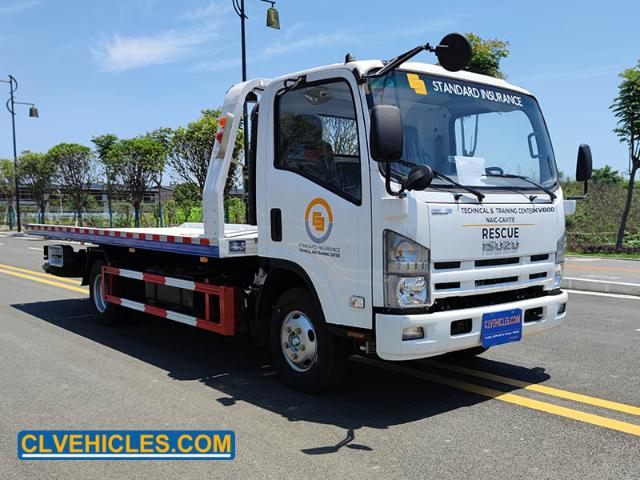truck: (199, 54, 575, 387)
